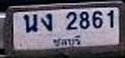txt05: (40, 12, 54, 33)
txt20: (22, 13, 39, 34)
